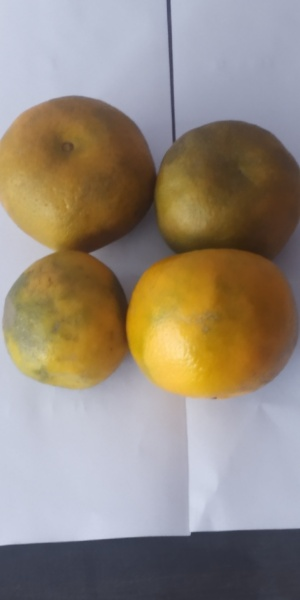BAD: (121, 247, 298, 396), (1, 93, 158, 252), (155, 118, 300, 260), (1, 247, 133, 390)
